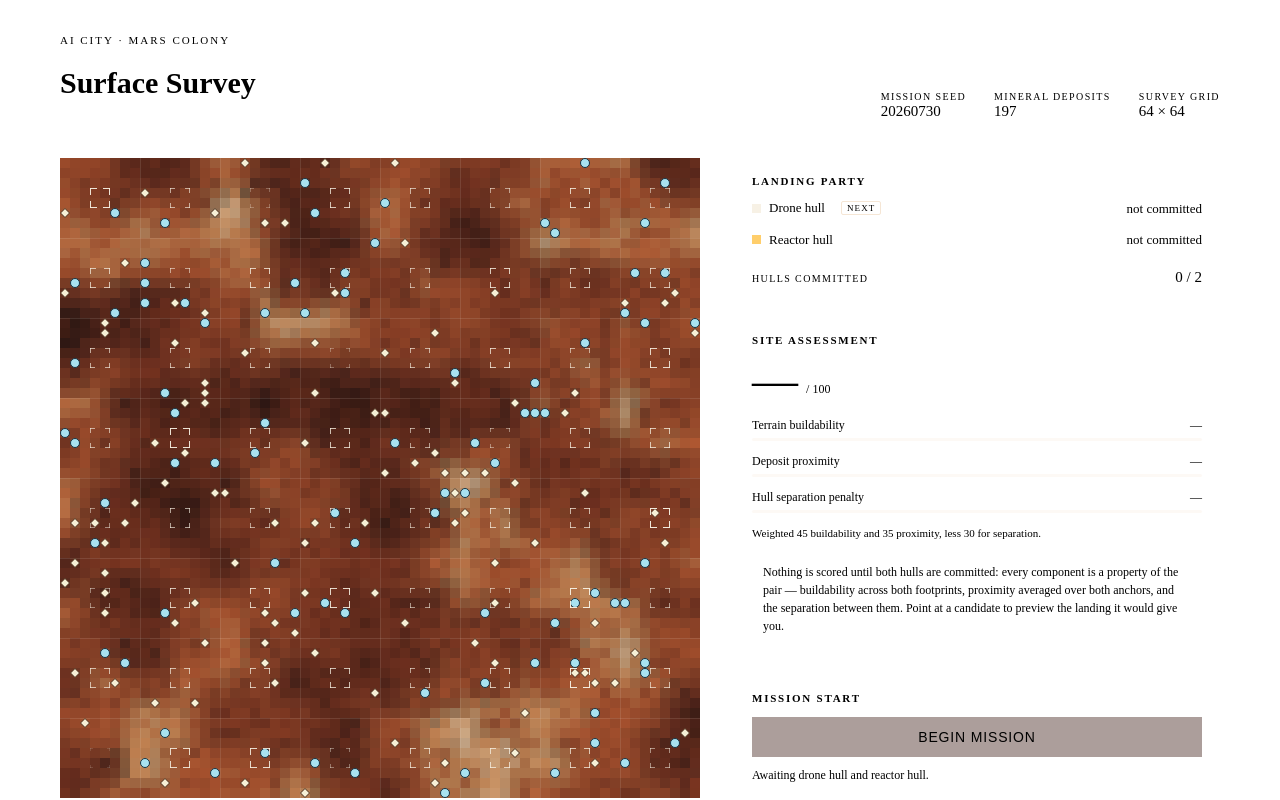
Scenario: SurveyScreen — previewing a candidate before committing › should refuse to invent a number for the very first anchor
This screenshot has width=1280, height=800.
Hover over the button named "Candidate touchdown point (11, 11) — commits the drone hull".
mouse_move(180, 278)  # box [166, 264, 194, 292]
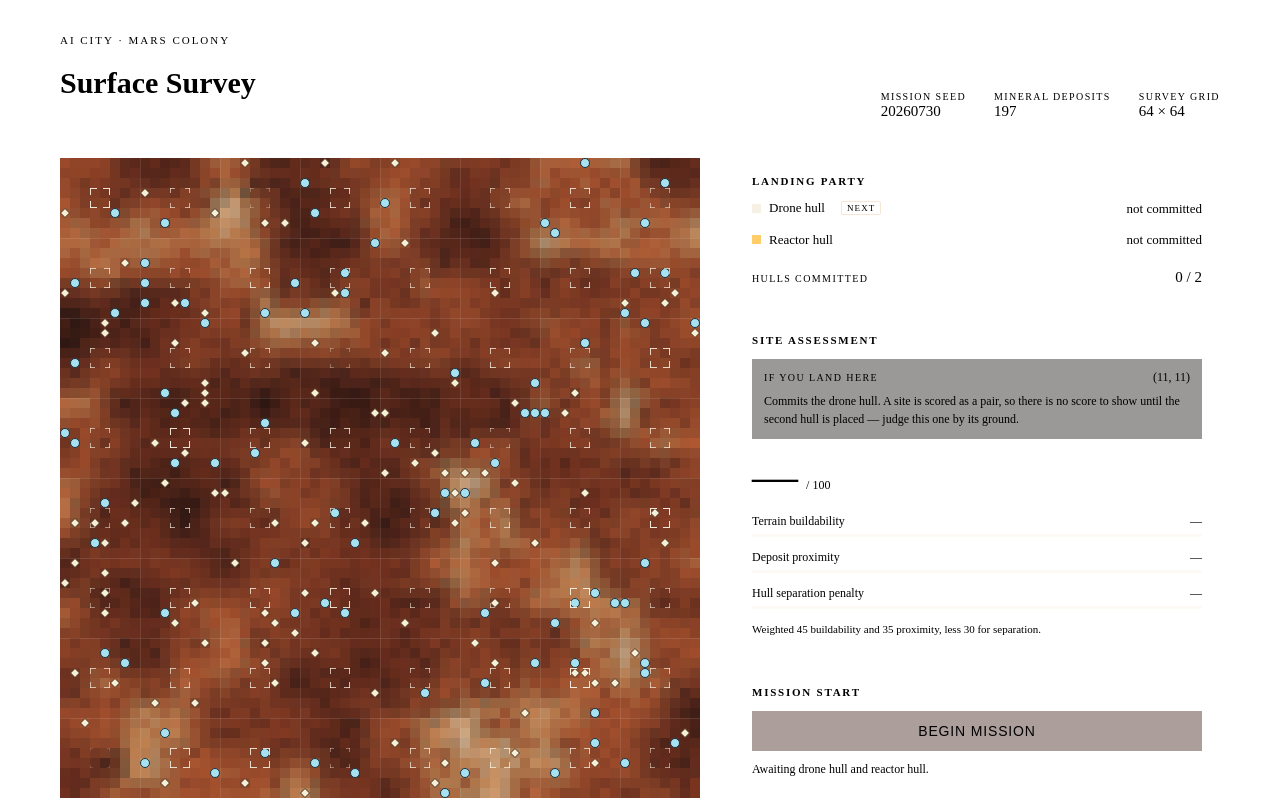
Expected: the text "scored as a pair" is shown, [764, 394, 1180, 426]
